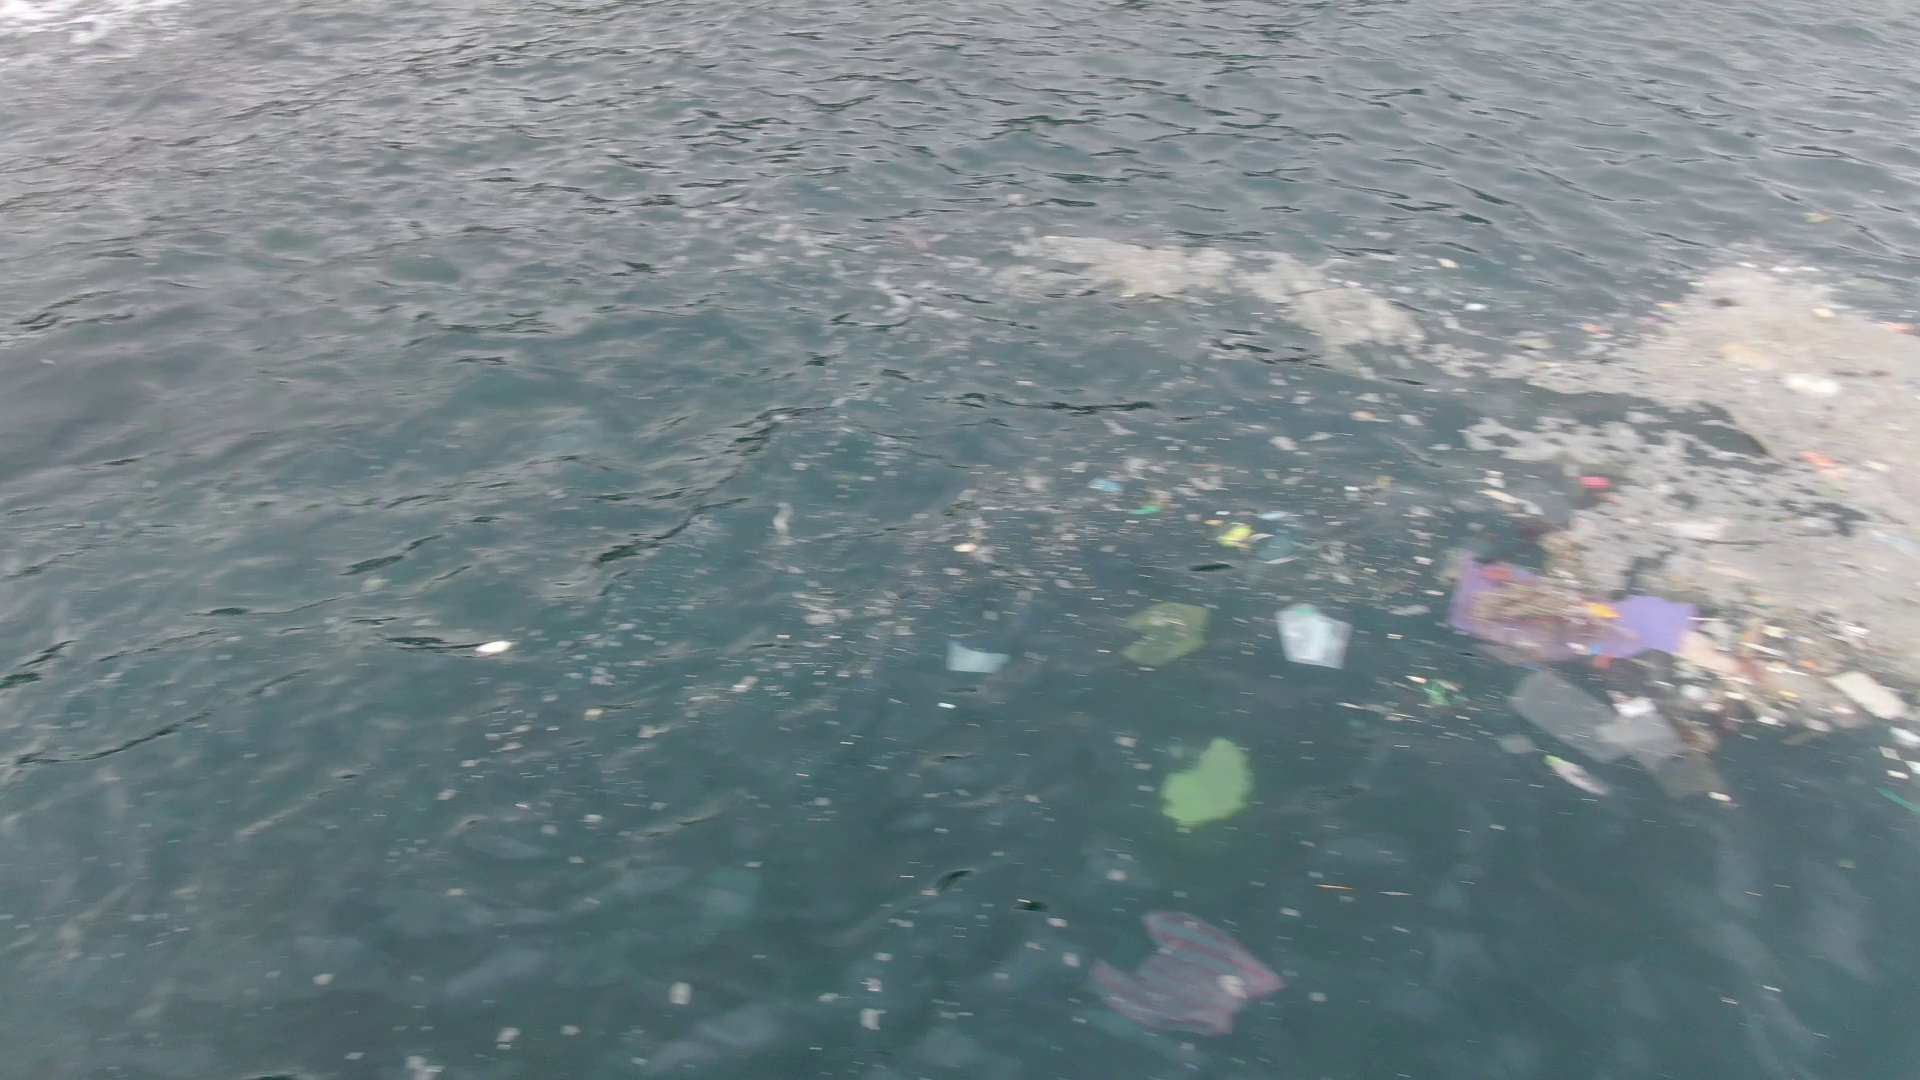bottle: (1539, 752, 1611, 798)
garbage: (1443, 558, 1842, 694), (1088, 899, 1286, 1058), (1503, 666, 1629, 761), (1158, 738, 1251, 827), (1120, 599, 1211, 671), (1276, 601, 1356, 671), (1876, 725, 1920, 819), (1842, 669, 1908, 717), (942, 640, 1011, 676), (1800, 448, 1855, 484), (1783, 368, 1845, 400), (1216, 524, 1257, 545), (476, 637, 517, 657), (1575, 472, 1611, 491), (1087, 475, 1118, 492), (1575, 318, 1601, 334), (1462, 299, 1489, 314)
